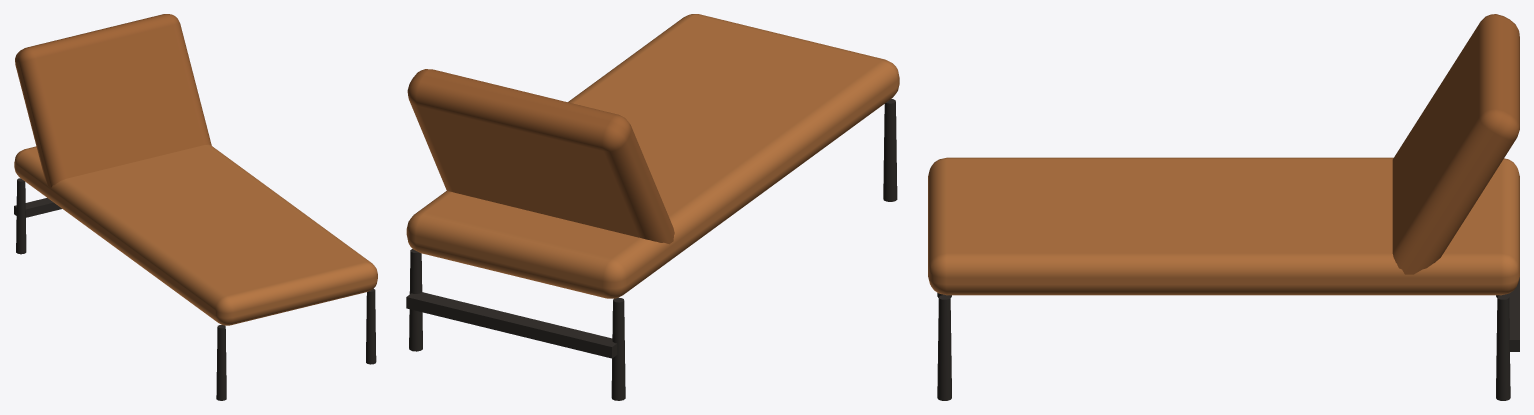
The model's file is loungechair-lite.glb.
The picture shows the model from 3 angles, left to right: view 1: azimuth 30°, elevation 25°; view 2: azimuth 150°, elevation 25°; view 3: azimuth 270°, elevation 25°; orthographic projection. The views are drawn at different scales.
Visible parts, largest first — view 1: material-1-upholstery, material-2-accent, material-0-leg; view 2: material-1-upholstery, material-2-accent, material-0-leg; view 3: material-1-upholstery, material-2-accent, material-0-leg.
Part boxes in pixels (x1,y1,x2,y2): material-1-upholstery: (14,144,377,325); material-2-accent: (15,14,211,187); material-0-leg: (14,178,376,400); material-1-upholstery: (406,14,899,298); material-2-accent: (407,69,674,244); material-0-leg: (406,99,897,400); material-1-upholstery: (928,157,1519,295); material-2-accent: (1392,14,1519,274); material-0-leg: (937,277,1519,400).
Size of the model in its own units: 0.7 by 0.8498 by 1.6.
